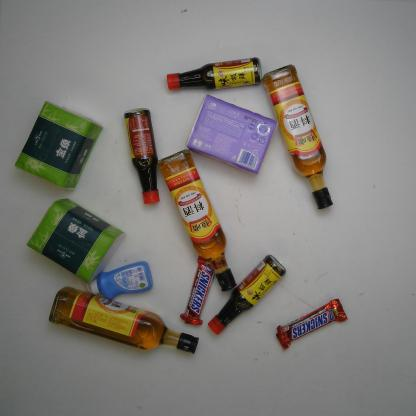Chocolate: (270, 295, 353, 351), (178, 251, 217, 326)
Personal Hygiene: (83, 256, 157, 304)
Seasoner: (153, 145, 244, 295), (42, 283, 207, 363), (254, 63, 342, 210), (204, 250, 291, 335), (116, 106, 168, 206), (162, 52, 263, 97)
Tissue: (27, 189, 127, 288), (10, 92, 107, 194), (180, 87, 282, 178)
